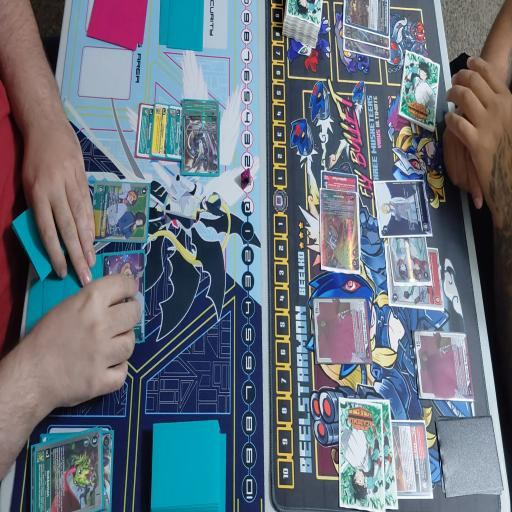card: (31, 425, 102, 512), (101, 249, 147, 351), (314, 299, 374, 365), (318, 187, 364, 272), (89, 181, 152, 243), (374, 179, 438, 237), (417, 330, 470, 400), (180, 98, 224, 178), (388, 421, 433, 499), (387, 242, 438, 310), (387, 235, 433, 284), (345, 0, 390, 37), (343, 23, 392, 51), (163, 106, 186, 164), (321, 169, 357, 201), (342, 40, 391, 63), (136, 104, 155, 162), (150, 102, 168, 161)
